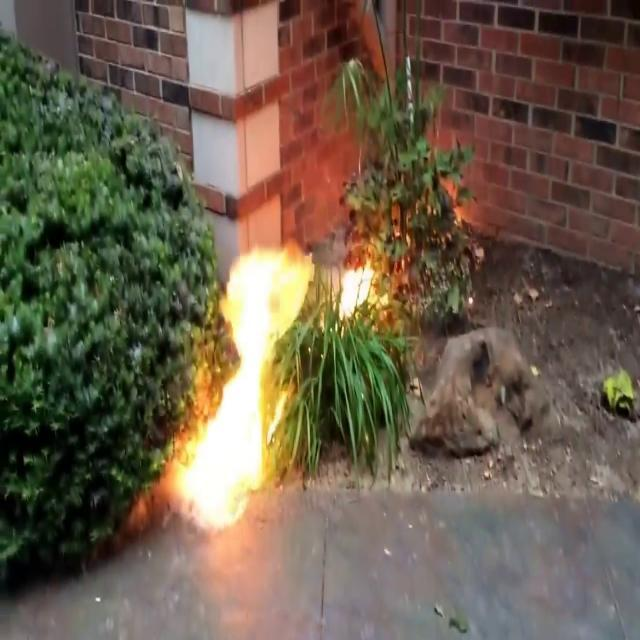Fire: (171, 230, 309, 530), (335, 247, 383, 325)
